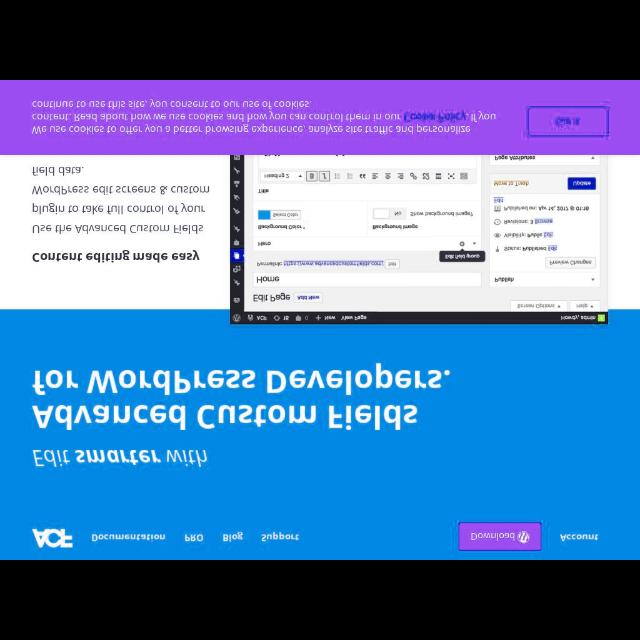image: (230, 154, 608, 324), (34, 528, 72, 548), (518, 530, 530, 544)
text: (30, 363, 450, 429), (31, 100, 496, 136), (32, 167, 210, 233), (32, 448, 208, 466), (32, 250, 200, 262), (92, 533, 166, 541), (470, 530, 516, 540), (261, 530, 299, 542), (560, 532, 598, 542), (555, 116, 581, 126), (222, 531, 242, 543), (185, 533, 203, 541)
textbutton: (458, 522, 542, 550), (528, 108, 608, 136)
